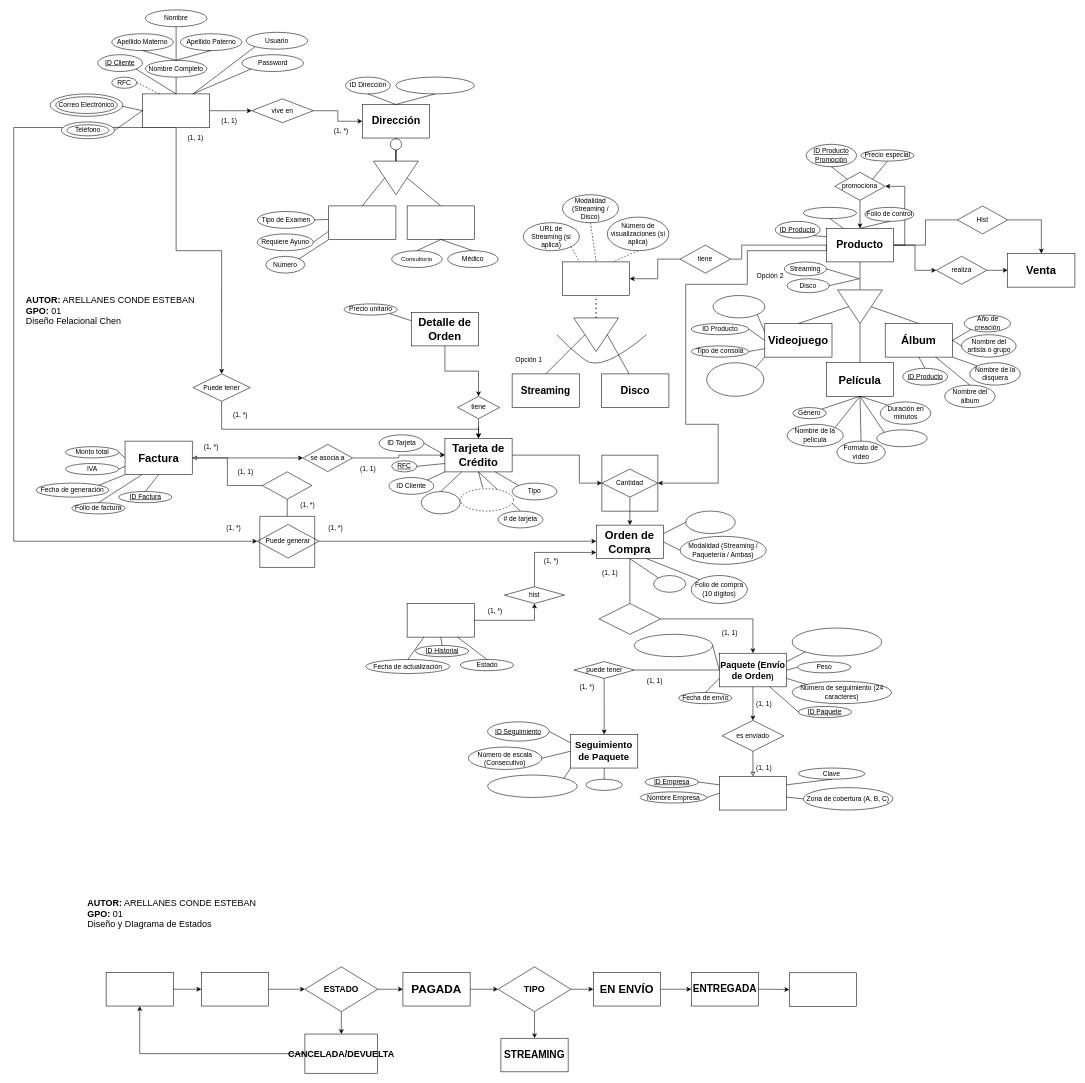
This 1085x1083 diagram has some shape labels left out. The shapes that lost their labels are listed below. From the top down, each one's centre as x and y in pixels, then its label:
point (434, 85): Dirección Completa
point (176, 110): Cliente
point (362, 222): Dirección Fiscal
point (440, 222): Dirección Envío
point (830, 213): Precio de venta
point (596, 278): Disponibilidad
point (738, 306): Nombre del videojuego
point (735, 379): Descripción (instrucciones de juego)
point (901, 438): Clasificación
point (287, 485): genera
point (440, 502): Fecha de trámite
point (487, 499): Fecha de expiración
point (710, 522): Estado de la orden
point (669, 583): ID Orden
point (440, 620): Estado de Orden
point (630, 618): puede requerir
point (673, 645): Dimensiones (Ancho x Alto x Largo)
point (837, 641): Nombre de la empresa de paquetería
point (532, 785): Fecha y hora de llegada
point (603, 784): Lugar
point (753, 793): Empresa de Paquetería
point (139, 989): INICIO
point (235, 989): REGISTRADA
point (823, 989): FIN
